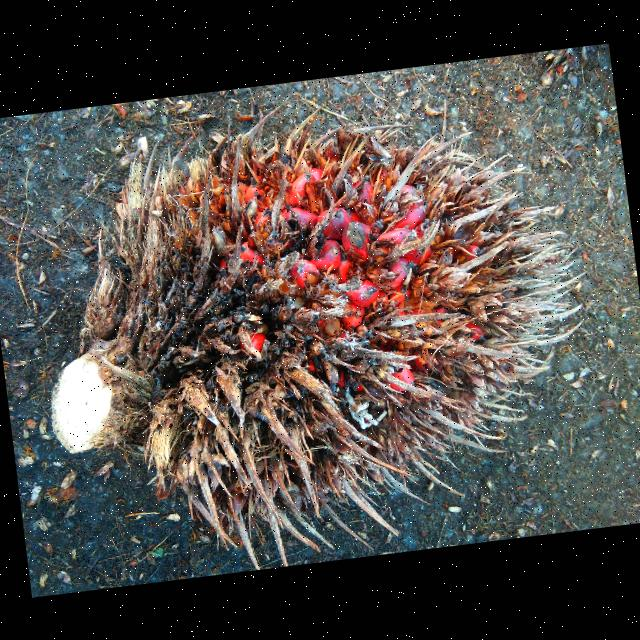Overripe: (52, 123, 567, 547)
